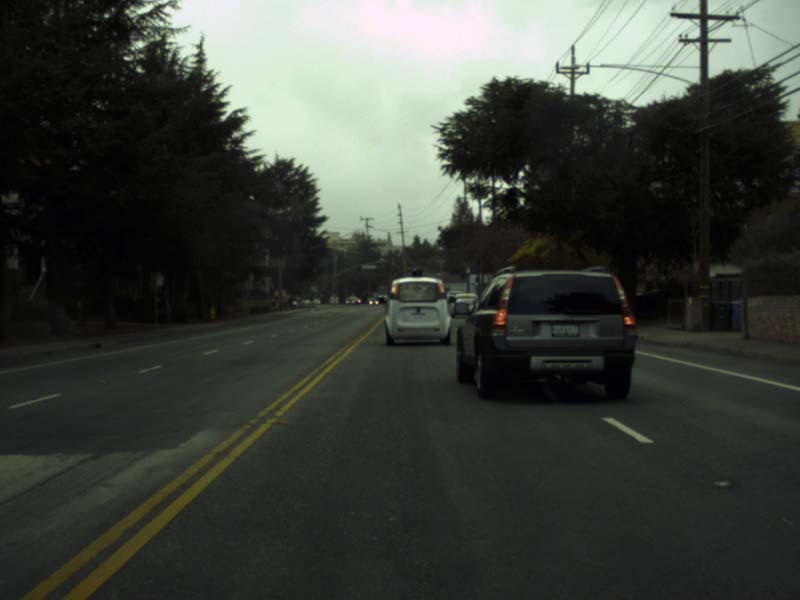Green: (391, 267, 399, 277), (406, 266, 413, 277), (474, 277, 480, 289)
